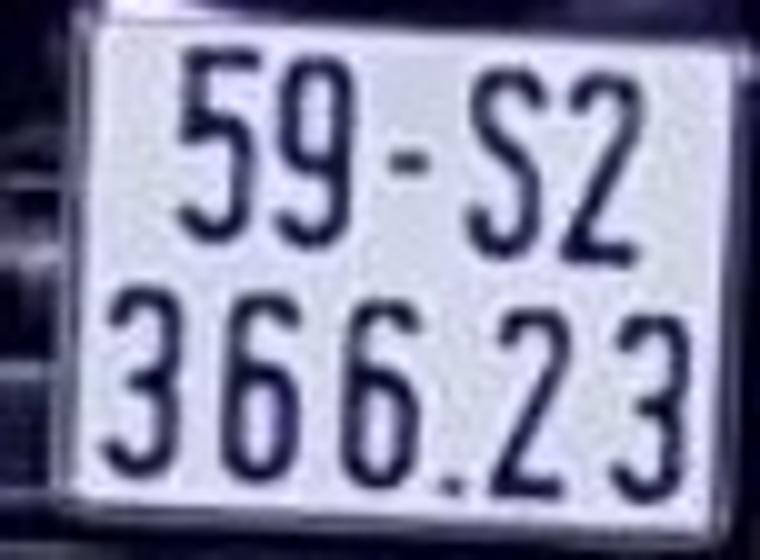-: (374, 131, 449, 185)
.: (440, 462, 472, 511)
2: (561, 69, 645, 269), (493, 299, 570, 501)
3: (606, 305, 696, 511), (99, 271, 185, 480)
5: (172, 42, 264, 248)
6: (216, 286, 310, 480), (339, 298, 429, 485)
9: (277, 46, 358, 256)
S: (462, 65, 551, 267)
